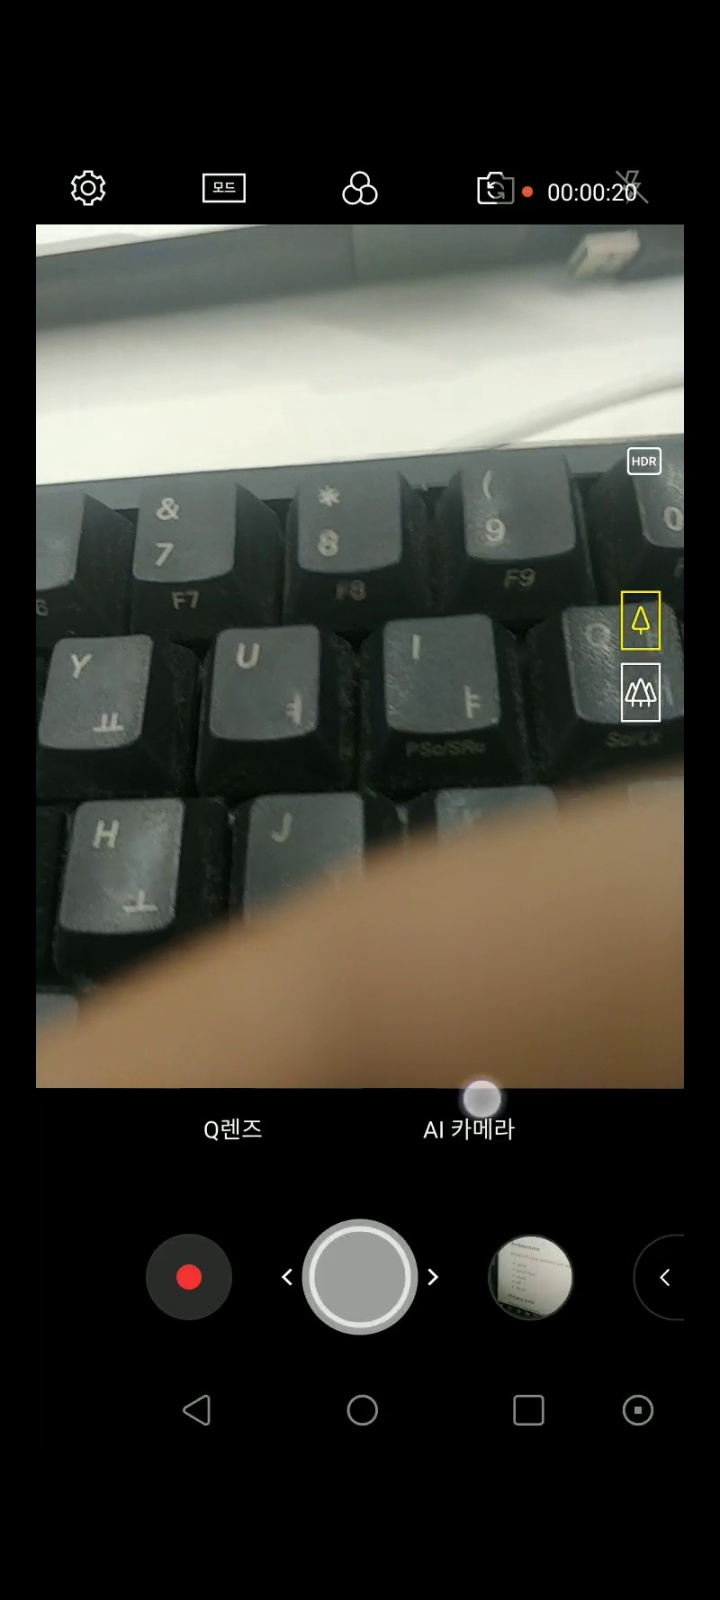Cursor: (460, 1077, 505, 1122)
